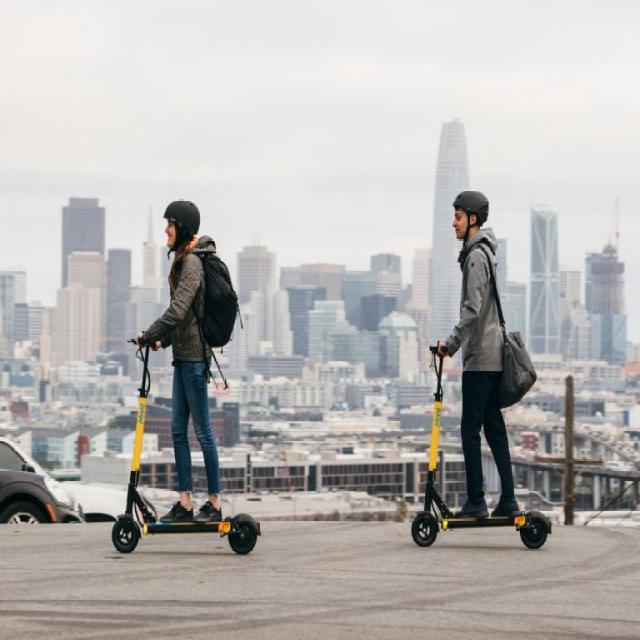helmet: (386, 170, 576, 565), (102, 180, 264, 580)
